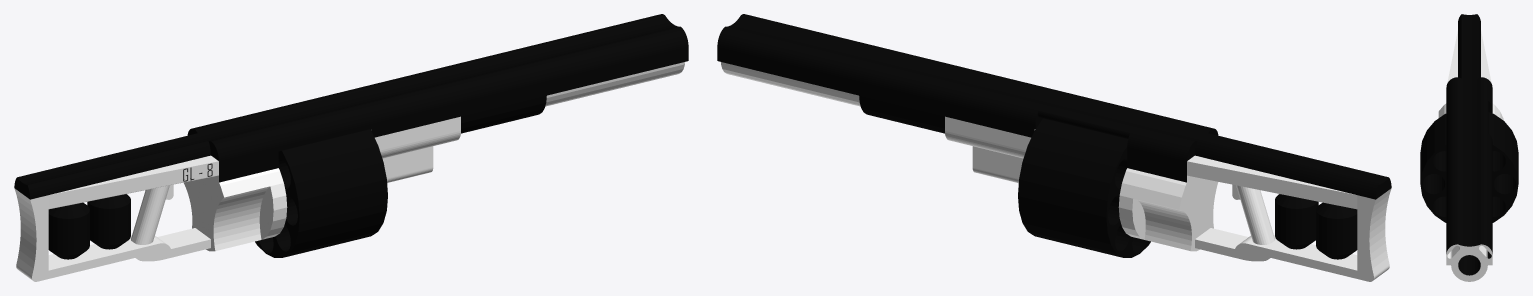
The model's file is Lanzagranadas.FBX.
3 views of the same model, side by side, from view 1: azimuth 30°, elevation 25°; view 2: azimuth 150°, elevation 25°; view 3: azimuth 270°, elevation 25° (orthographic). The views are drawn at different scales.
Parts seen in each view (by area): view 1: Skin, Group1, Cargador, Etiqueta; view 2: Skin, Group1, Cargador; view 3: Skin, Cargador, Group1.
Boxes of the visible parts, bbox=[...] form: Skin: bbox=[14, 14, 688, 259]; Group1: bbox=[14, 62, 684, 281]; Cargador: bbox=[255, 129, 387, 257]; Etiqueta: bbox=[48, 161, 218, 209]; Skin: bbox=[717, 14, 1391, 259]; Group1: bbox=[721, 62, 1391, 281]; Cargador: bbox=[1018, 118, 1150, 257]; Skin: bbox=[1446, 14, 1492, 275]; Cargador: bbox=[1420, 112, 1518, 222]; Group1: bbox=[1438, 31, 1503, 281].
Size of the model in its own units: 8.05 by 1.58 by 1.44.
3 materials, 1 textured.
